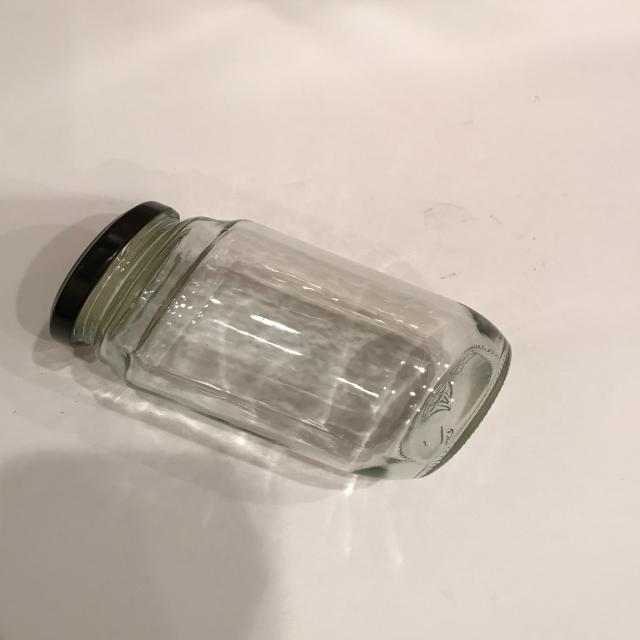glass: (46, 198, 514, 486)
